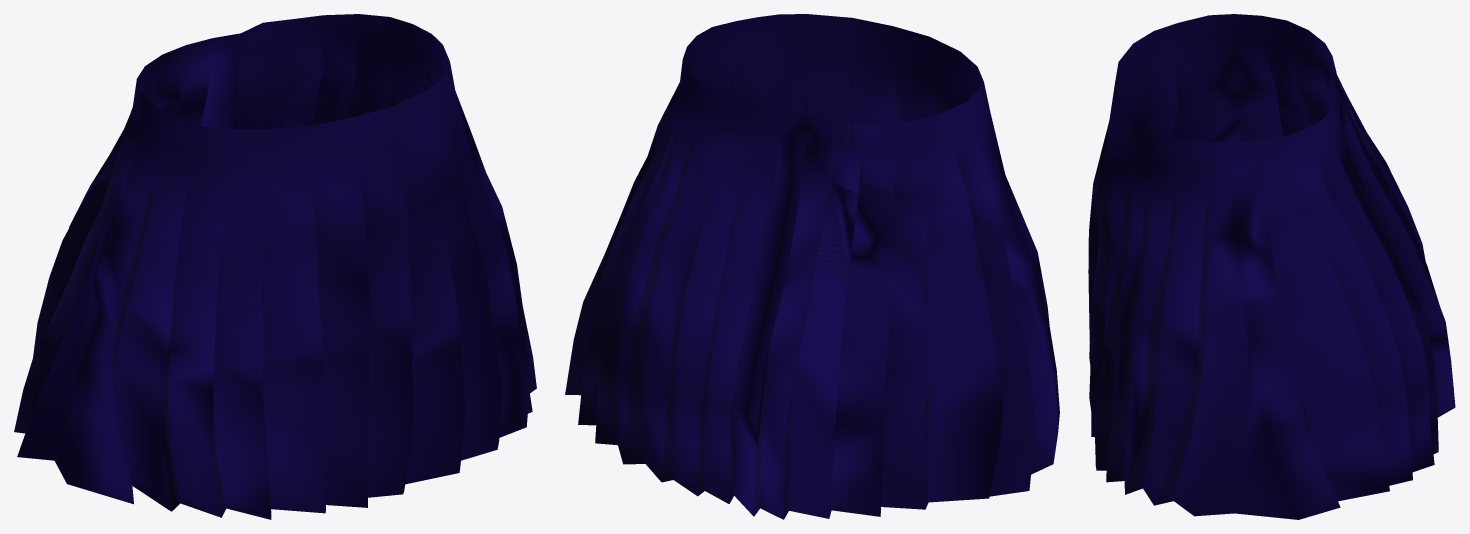
Rendered from pants0.fbx.
The picture shows the model from 3 angles, left to right: view 1: azimuth 30°, elevation 25°; view 2: azimuth 150°, elevation 25°; view 3: azimuth 270°, elevation 25°; orthographic projection. The views are drawn at different scales.
Visible parts, largest first — view 1: Pants; view 2: Pants; view 3: Pants.
Part boxes in pixels (x1,y1,x2,y2): Pants: (14, 14, 536, 519); Pants: (565, 14, 1059, 519); Pants: (1088, 14, 1455, 519).
Size of the model in its own units: 0.3286 by 0.2513 by 0.2326.
